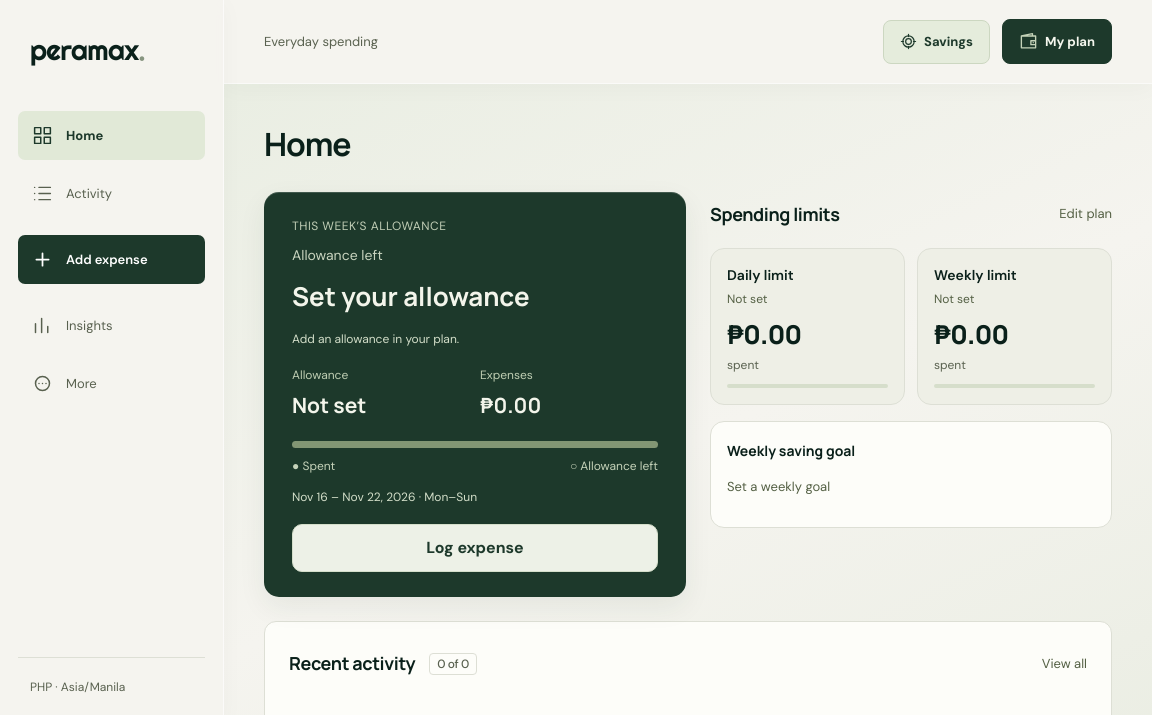
explains filtered emptiness and clears the filters
Click the button "Activity": (112, 194) [18,169,205,218]
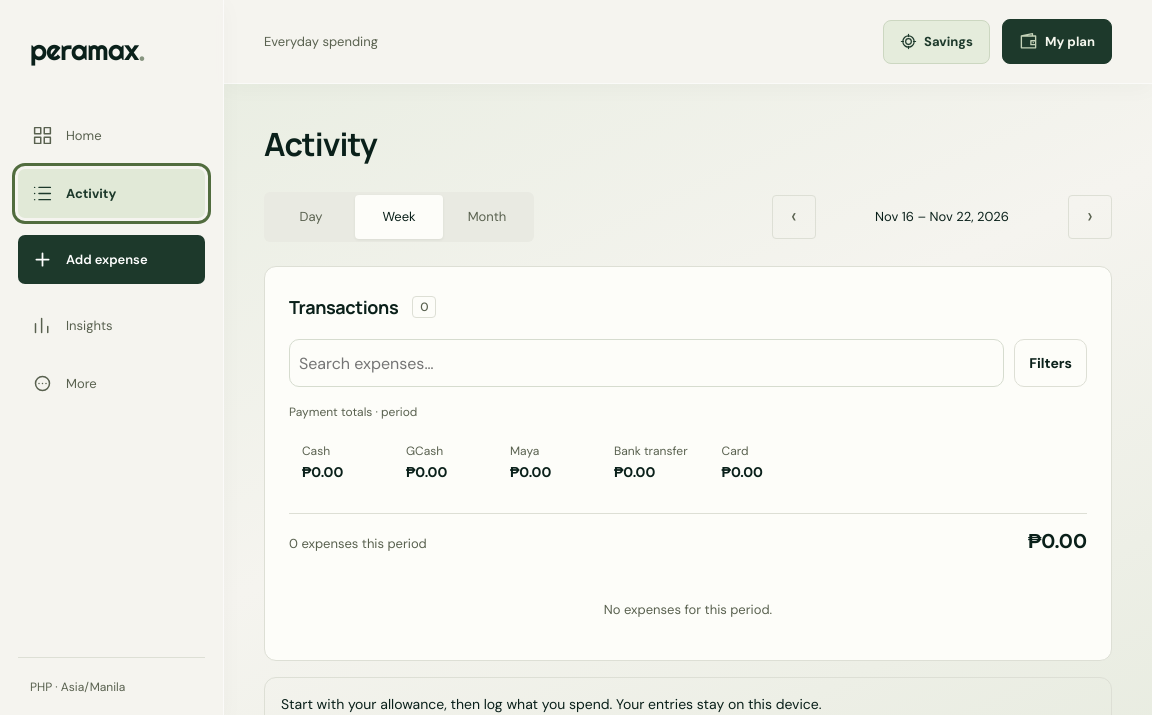
In the field named "Search transactions": (647, 363) [289,339,1004,387], type "unmatched note"
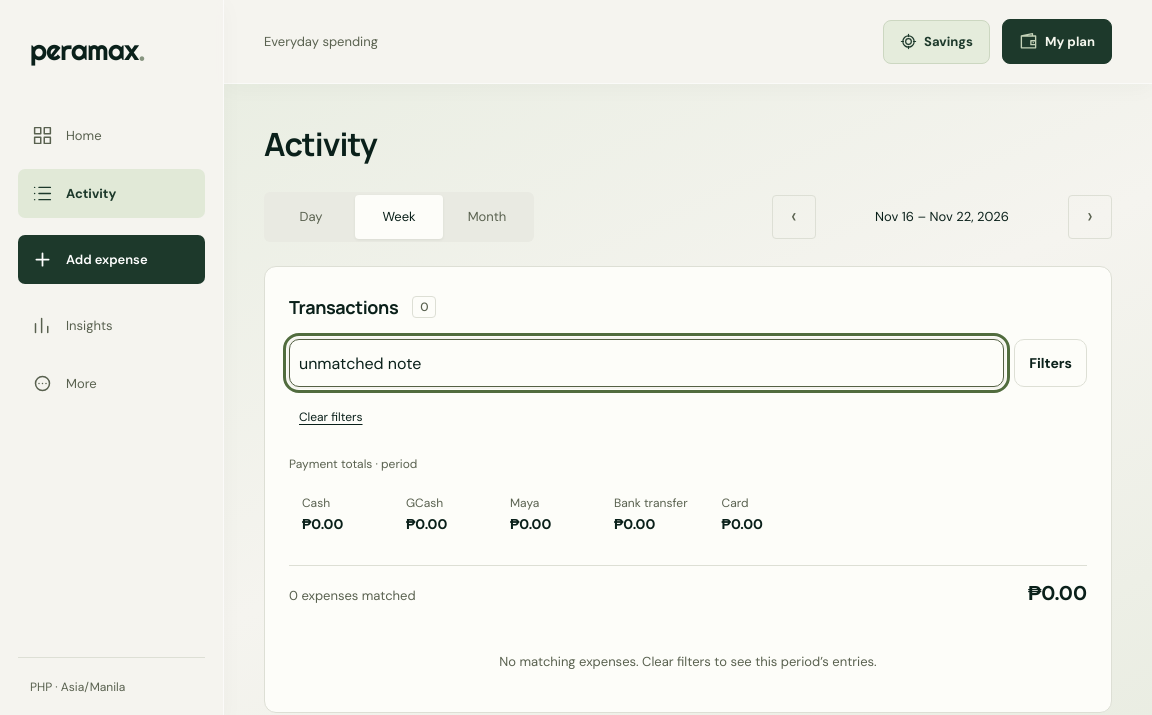
Result: the text "No matching expenses" is shown at [499,653,877,670]
Click the button "Clear filters": (331, 417) [289,395,372,439]
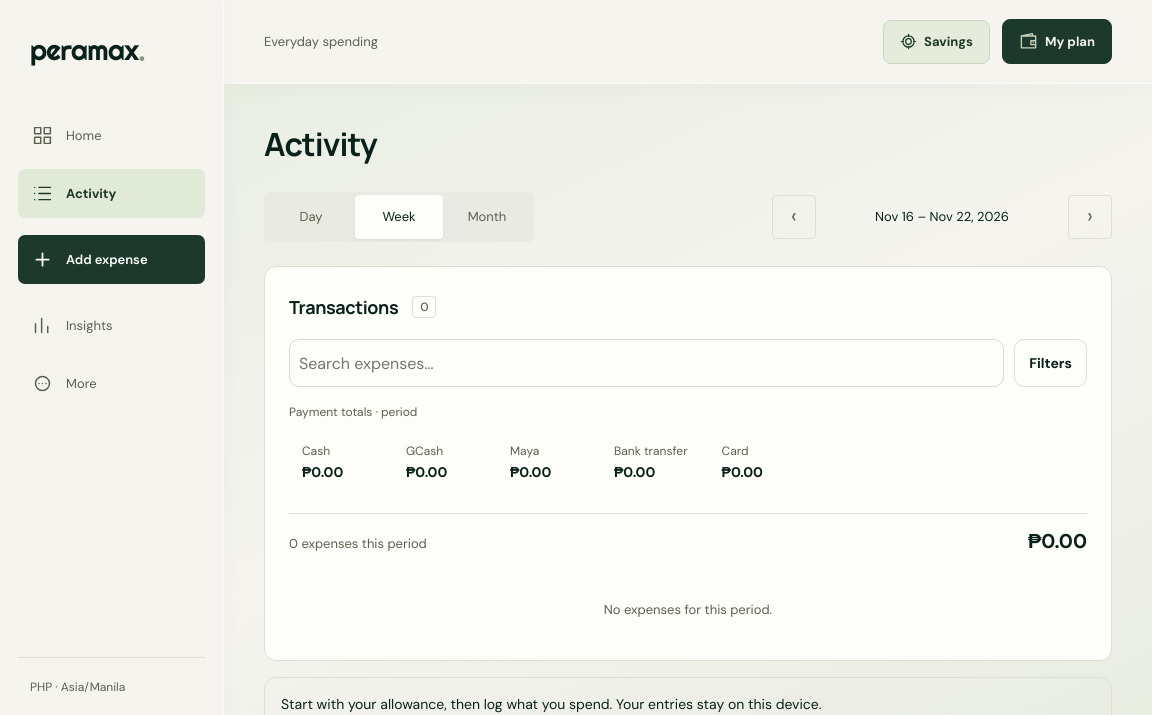
Result: the field named "Search transactions" is empty at [289,339,1004,387]
Result: the text "No expenses for this period." is shown at [604,601,772,618]
